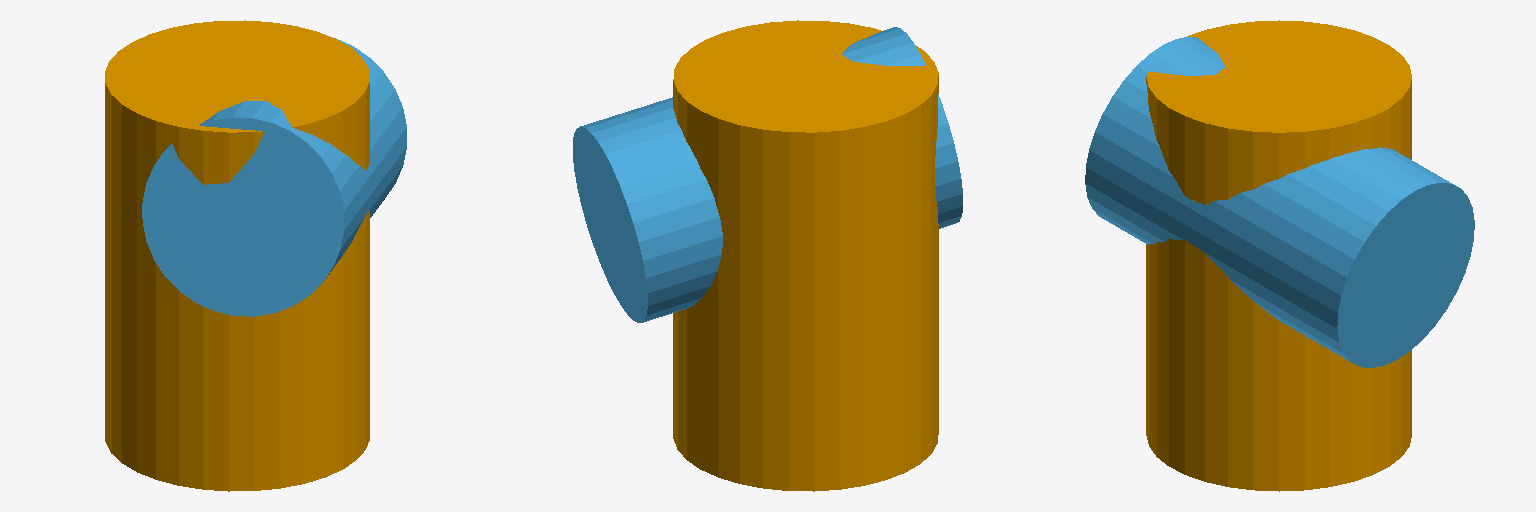
robot.urdf — pepe:
<?xml version="1.0"?><robot name="pepe">
	<link name="0">
		<visual>
			<geometry>
				<cylinder length="2.9780468539074367" radius="0.9999"/>
			</geometry>
		</visual>
		<collision>
			<geometry>
				<cylinder length="2.9780468539074367" radius="0.9999"/>
			</geometry>
		</collision>
		<inertial>
			<mass value="9.353939049816244"/>
			<inertia ixx="0.03" iyy="0.03" izz="0.03" ixy="0" ixz="0" iyx="0"/>
		</inertial>
	</link>
	<link name="11">
		<visual>
			<geometry>
				<cylinder length="2.5496029221662493" radius="0.775309308445226"/>
			</geometry>
		</visual>
		<collision>
			<geometry>
				<cylinder length="2.5496029221662493" radius="0.775309308445226"/>
			</geometry>
		</collision>
		<inertial>
			<mass value="4.814735315589824"/>
			<inertia ixx="0.03" iyy="0.03" izz="0.03" ixy="0" ixz="0" iyx="0"/>
		</inertial>
	</link>
	<joint name="11_to_0" type="revolute">
		<parent link="0"/>
		<child link="11"/>
		<axis xyz="0 1 0"/>
		<limit effort="1" upper="-3.1415" lower="3.1415" velocity="1"/>
		<origin rpy="4.972418994984615 5.458958114369282 2.23486373517574" xyz="0.32775525191358623 0.005068926001642771 0.5964509285915011"/>
	</joint>
</robot>

--- What the picture shows (computed from the rendered views, not written in the file) ---
The picture shows the robot from 3 angles, left to right: view 1: azimuth 30°, elevation 25°; view 2: azimuth 150°, elevation 25°; view 3: azimuth 270°, elevation 25°; orthographic projection.
Robot: pepe — 2 links, 1 joints (1 revolute); root link 0; default pose: all joints at 0.
Links seen in each view (by area): view 1: 0, 11; view 2: 0, 11; view 3: 0, 11.
Link boxes in pixels (x1,y1,x2,y2): 0: (105,20,369,491); 11: (142,37,406,316); 0: (673,20,938,491); 11: (573,27,962,322); 0: (1146,20,1411,491); 11: (1085,37,1474,367).
Bounding box of the posed robot: 2.83 × 2.93 × 3.07 m (x, y, z).
Geometry: primitives only (box / cylinder / sphere), no mesh files.
